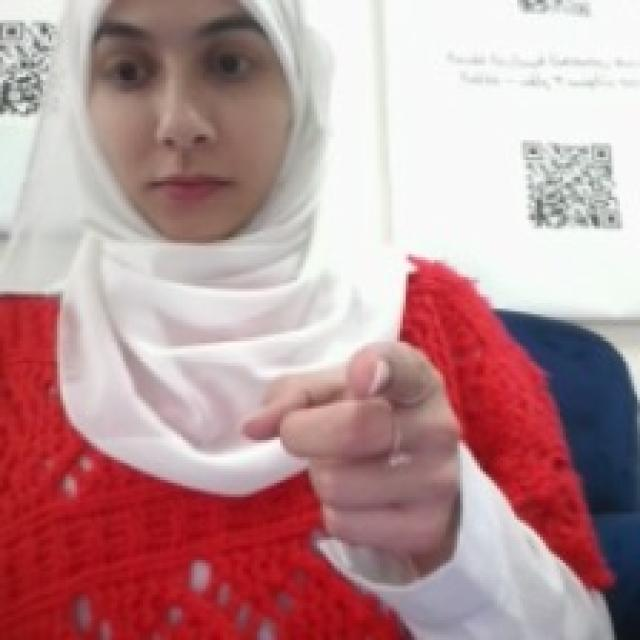you: (237, 328, 466, 566)
